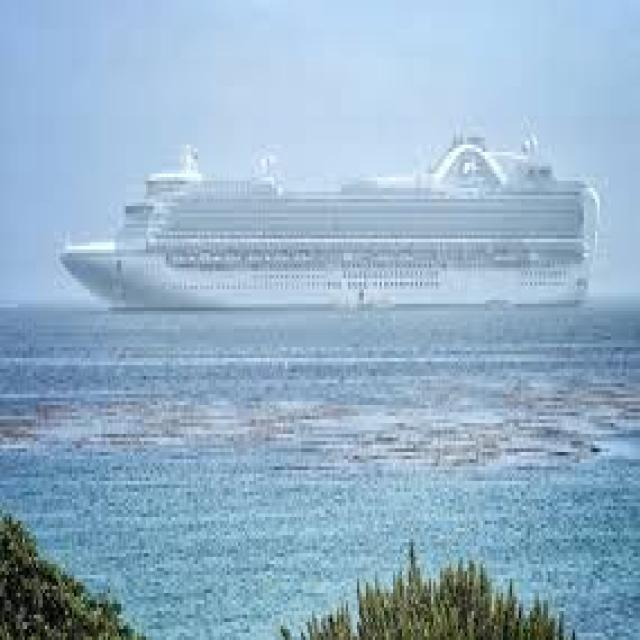passenger ship: (55, 134, 606, 304)
